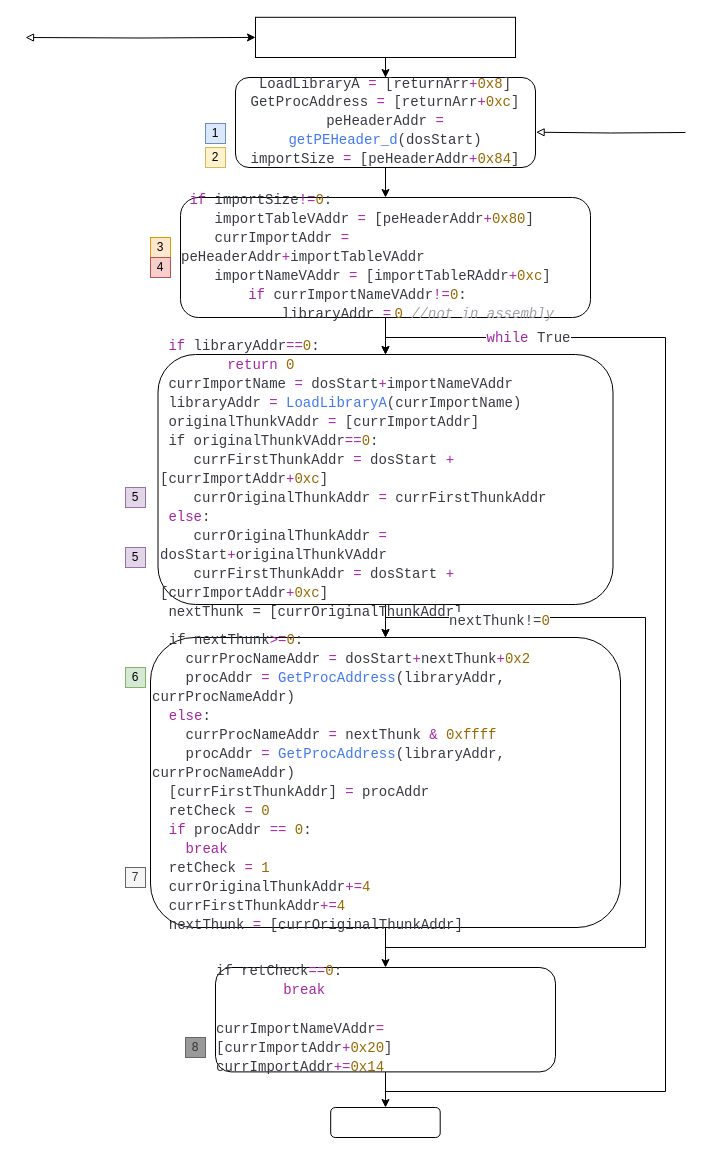
Some shapes in this 711 by 1156 pixel diagram are drawn without their labels. Here are the shapes that lost their labels. From the top down, the box of each, then its label:
(254, 16, 516, 58): loadImports (dosStart, * returnArr)
(330, 1106, 440, 1138): return 1
